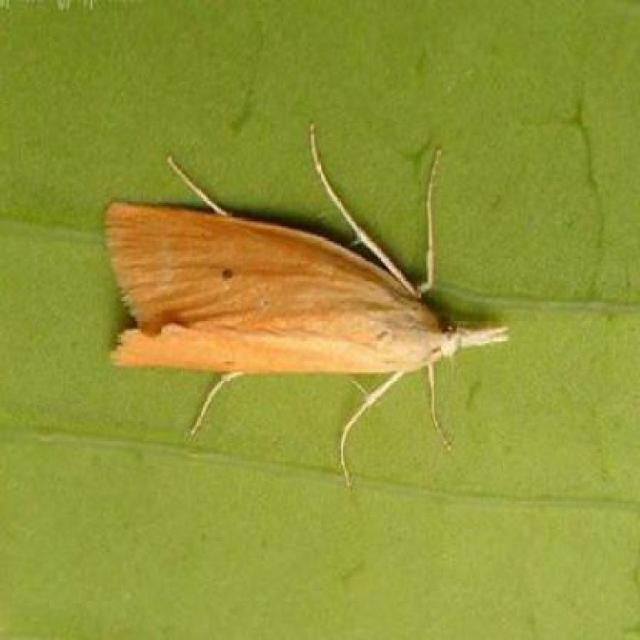stem-borer: (106, 200, 514, 411)
